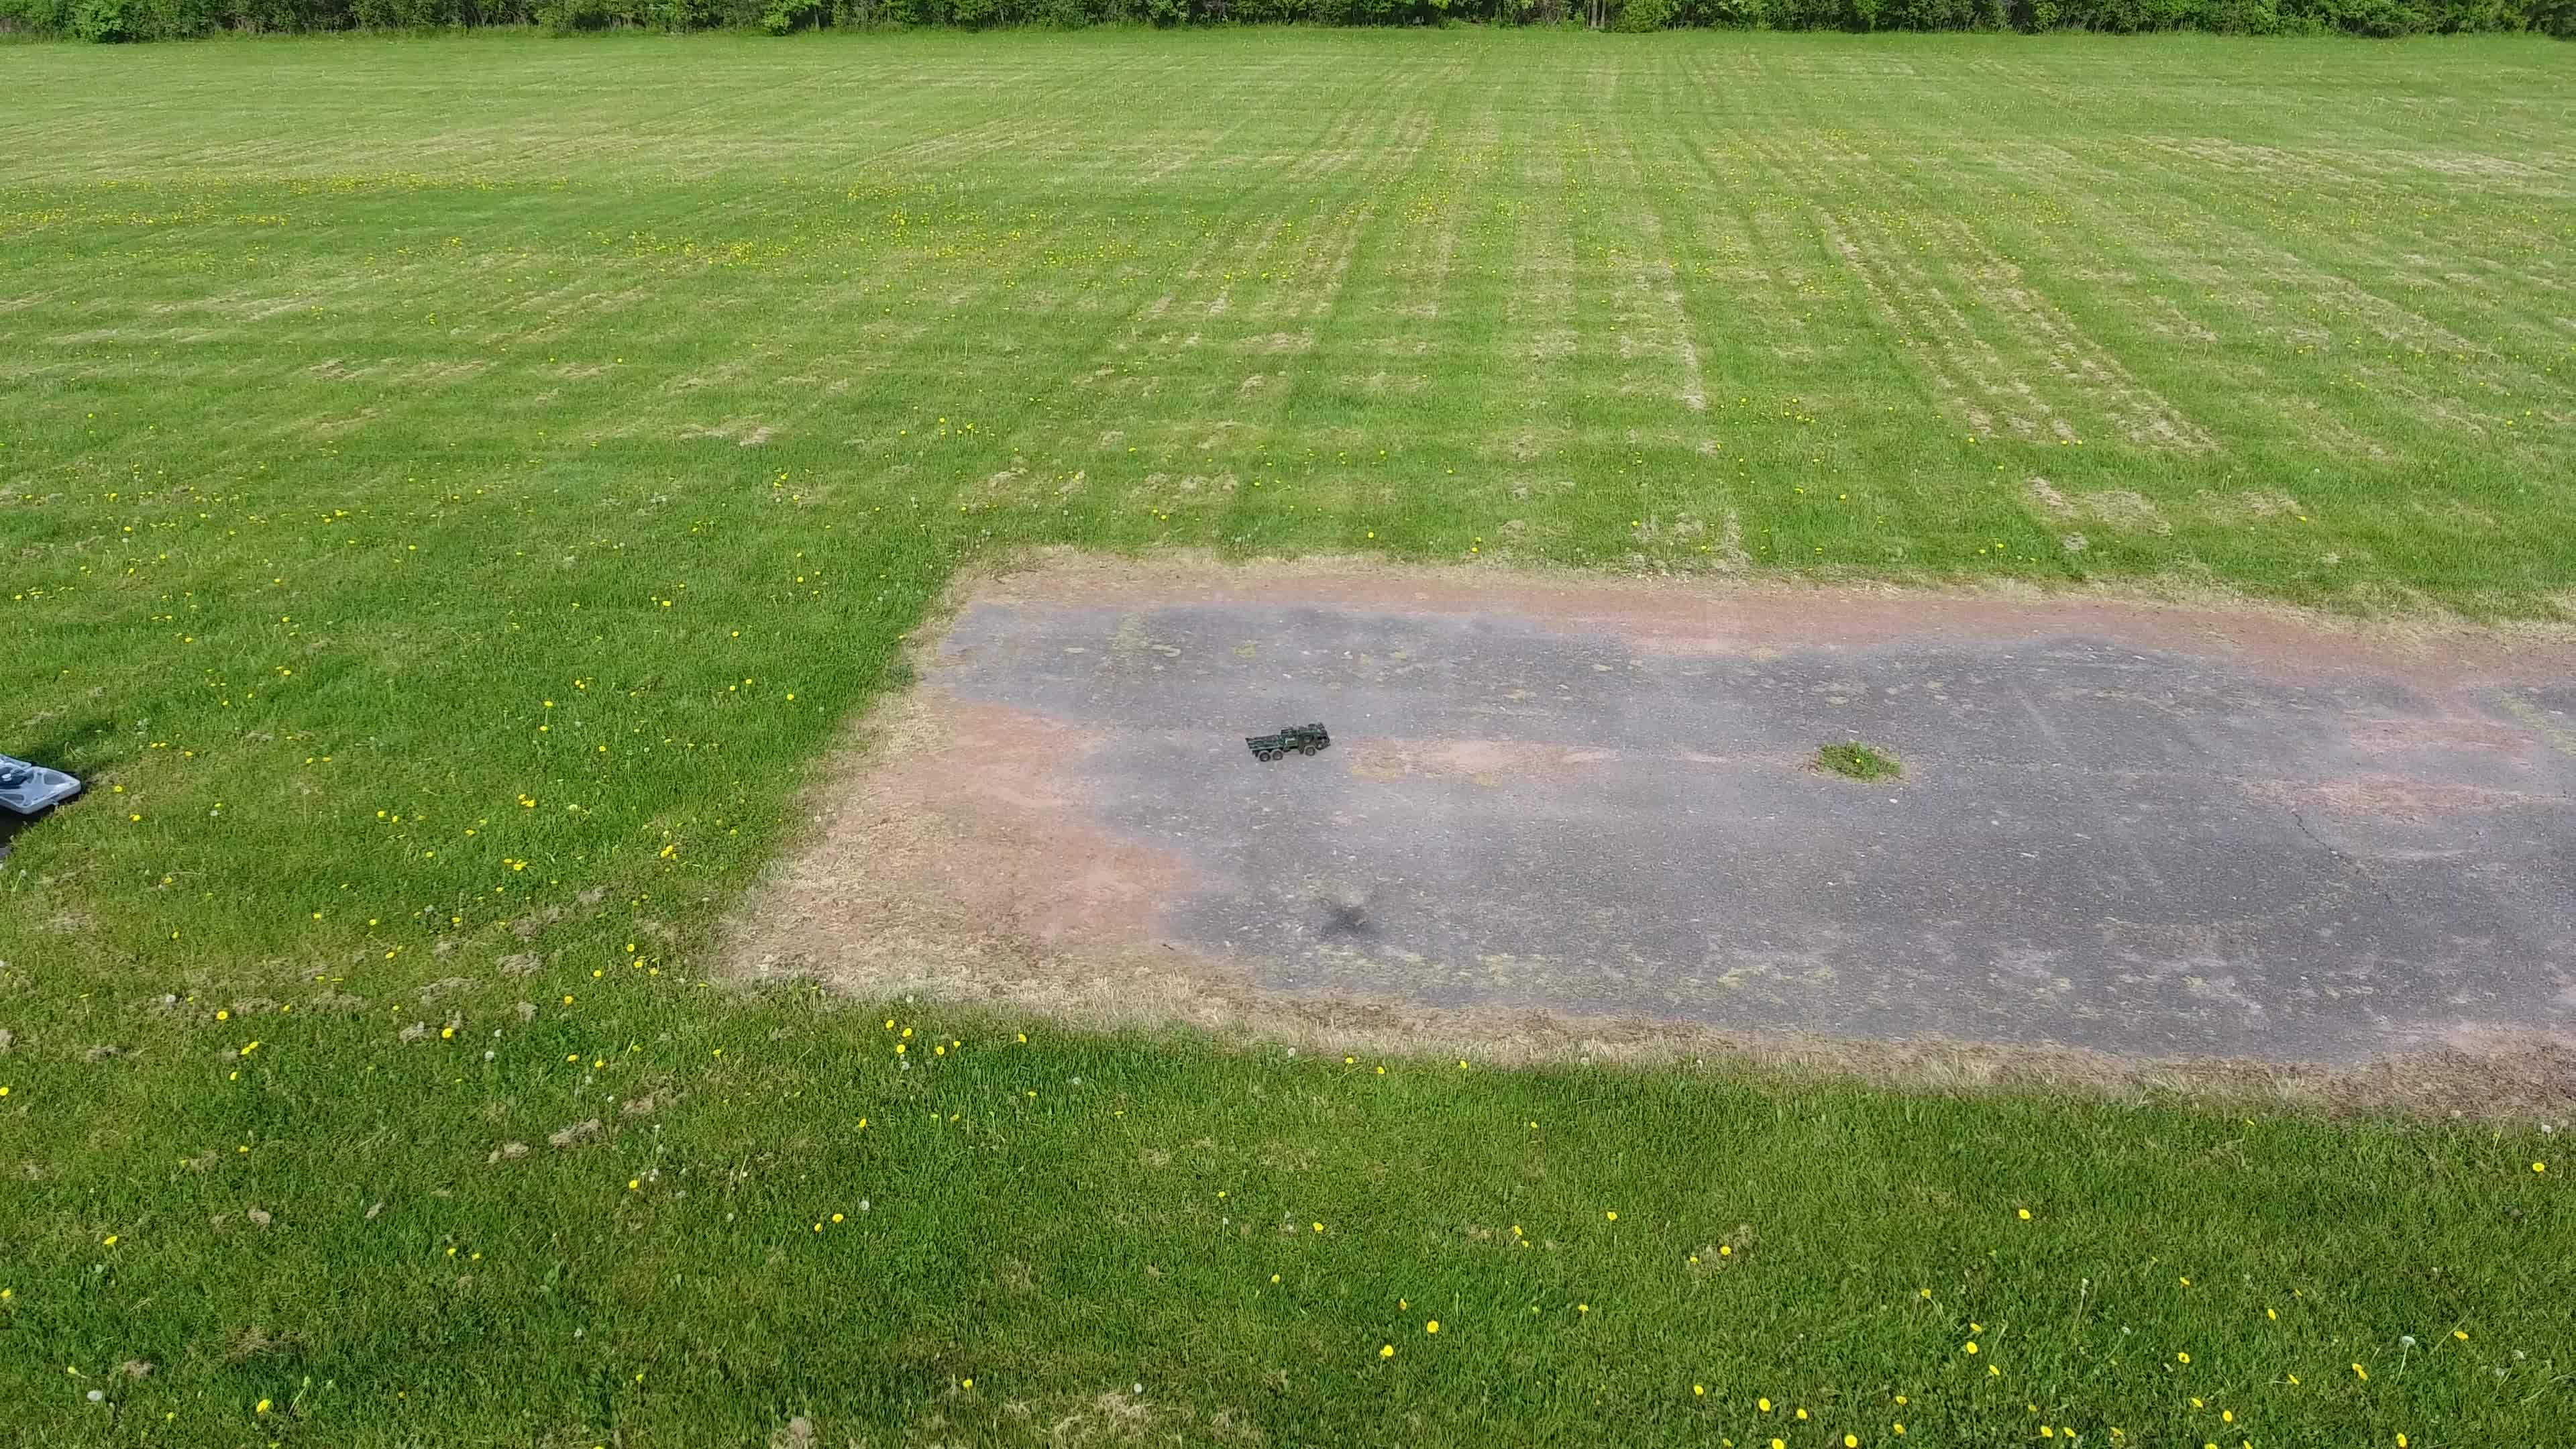transporter9: (1242, 724, 1332, 763)
